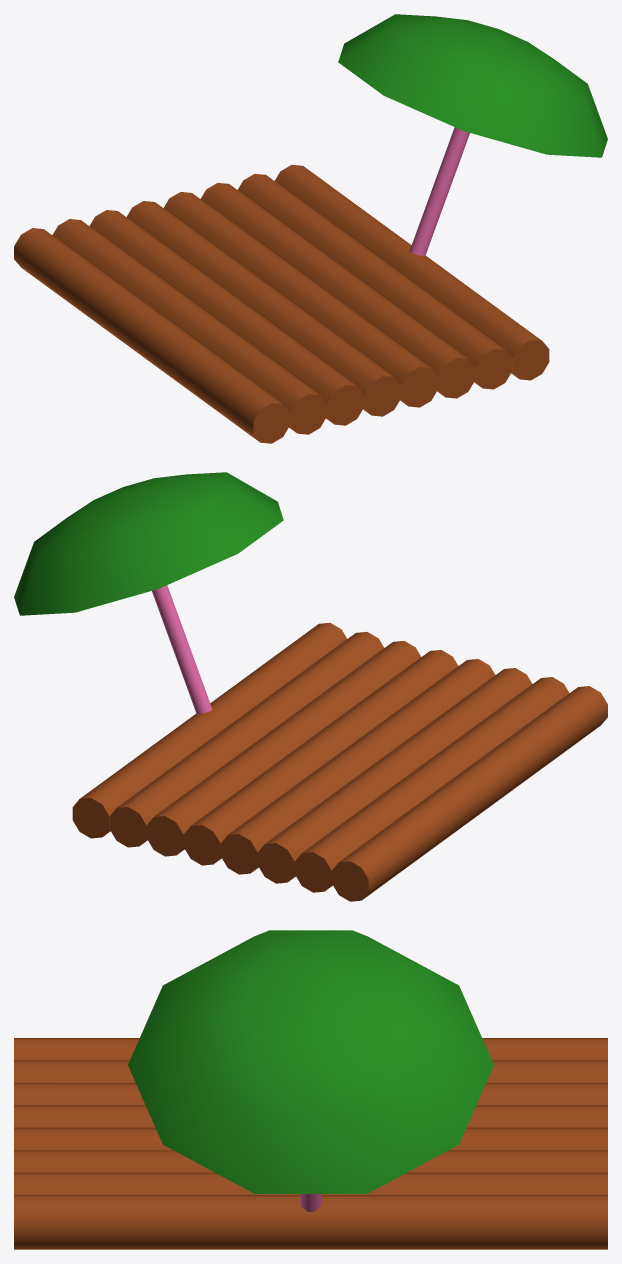
Rendered from raft.fbx.
The picture shows the model from 3 angles, top to bottom: view 1: azimuth 30°, elevation 25°; view 2: azimuth 150°, elevation 25°; view 3: azimuth 270°, elevation 25°; orthographic projection. The views are drawn at different scales.
Parts seen in each view (by area): view 1: Cylinder.001; view 2: Cylinder.001; view 3: Cylinder.001.
Part boxes in pixels (x1,y1,x2,y2): Cylinder.001: [14, 14, 607, 443]; Cylinder.001: [14, 472, 607, 901]; Cylinder.001: [14, 930, 607, 1249].
Size of the model in its own units: 1219 by 655 by 1119.
